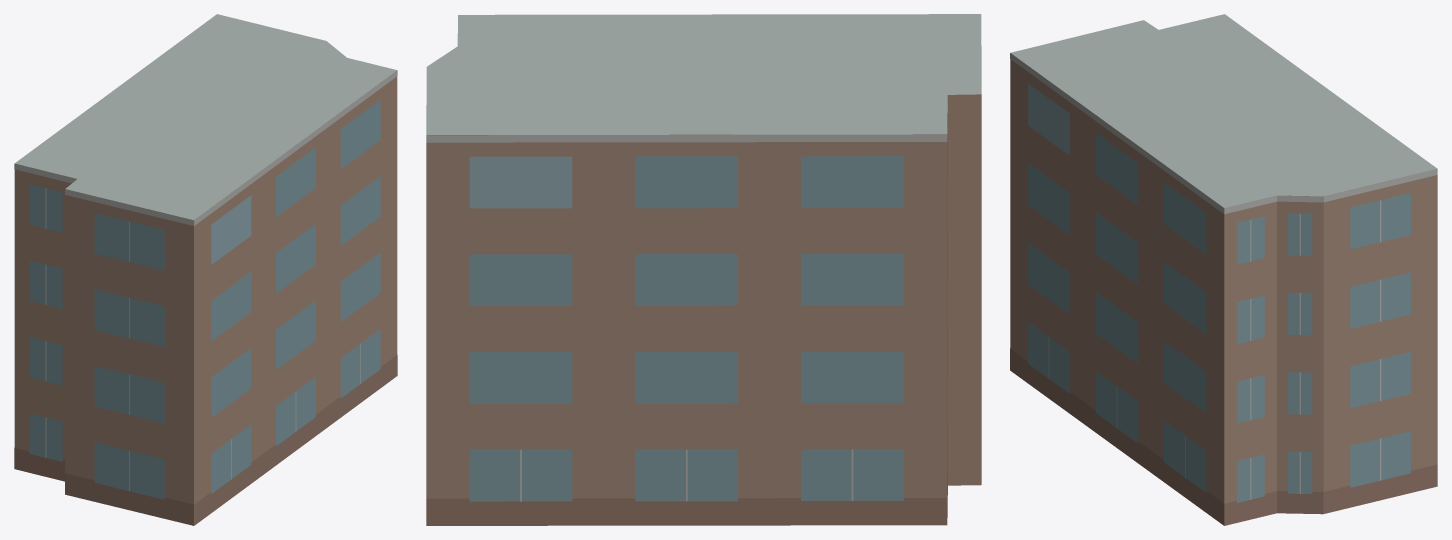
The model's file is survey-upis-32635881.glb.
3 renders of one model, left to right at view 1: azimuth 30°, elevation 25°; view 2: azimuth 150°, elevation 25°; view 3: azimuth 270°, elevation 25°, orthographic. The views are drawn at different scales.
Parts seen in each view (by area): view 1: survey-upis-32635881.tmp; view 2: survey-upis-32635881.tmp; view 3: survey-upis-32635881.tmp.
Boxes of the visible parts, x1,y1,x2,y2 form: survey-upis-32635881.tmp: [14, 14, 397, 525]; survey-upis-32635881.tmp: [426, 14, 981, 525]; survey-upis-32635881.tmp: [1010, 14, 1437, 525].
Bounding box in the file's own units: 16.69 × 12.73 × 15.53.
